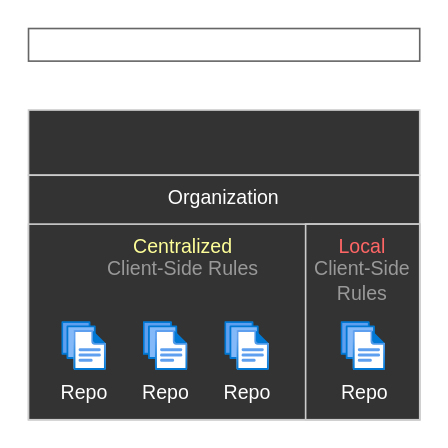
Image size: 448x448. Some labels were removed from this diagram. Each missing label, with the centre of its shape:
Rules Scope/Hierarchy: pixel 223 44
Server-Side Rules: pixel 223 141
